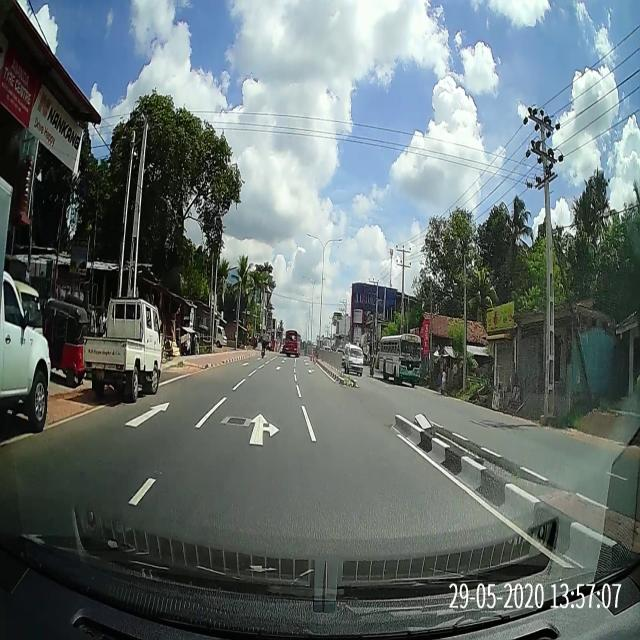forward_right: (175, 404, 324, 466), (182, 408, 321, 454), (187, 409, 319, 444), (198, 408, 312, 432)
